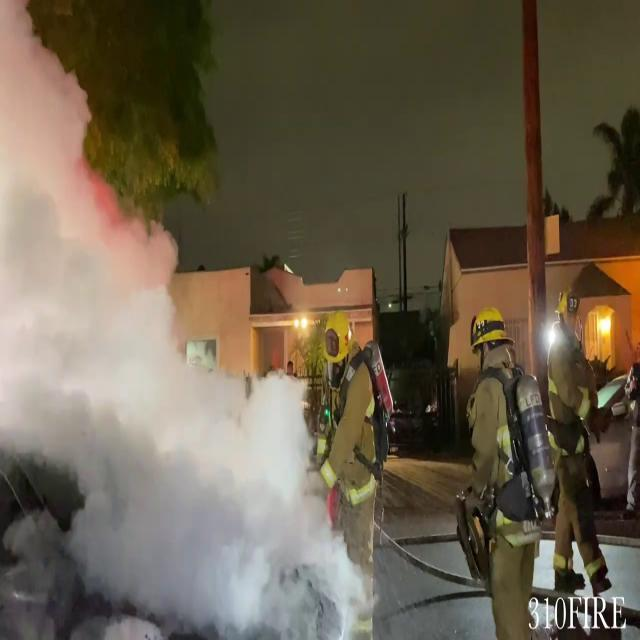Smoke: (0, 266, 369, 638), (0, 0, 199, 507)
